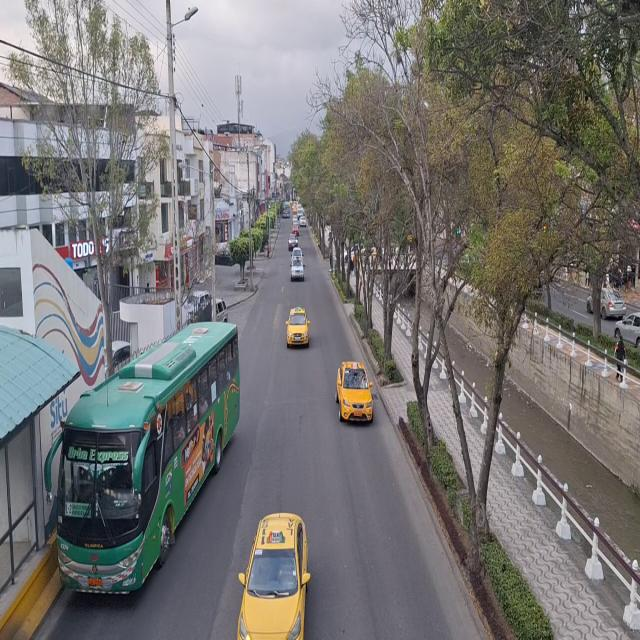BUS: (49, 324, 244, 598)
SUV: (291, 259, 304, 280), (288, 234, 298, 251)
